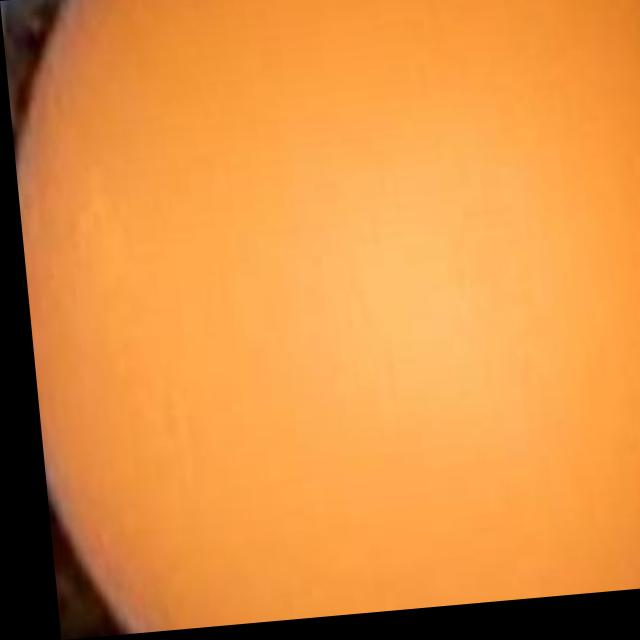fresh: (5, 0, 640, 640)
